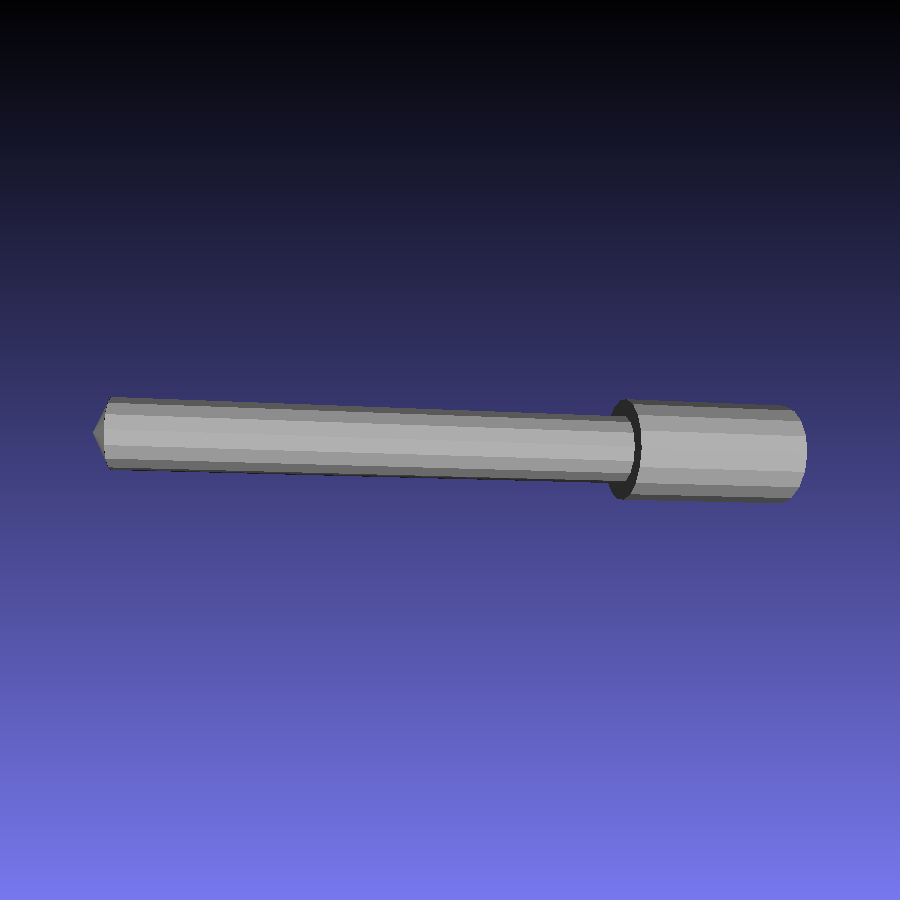cargo_g: (93, 397, 810, 500)
